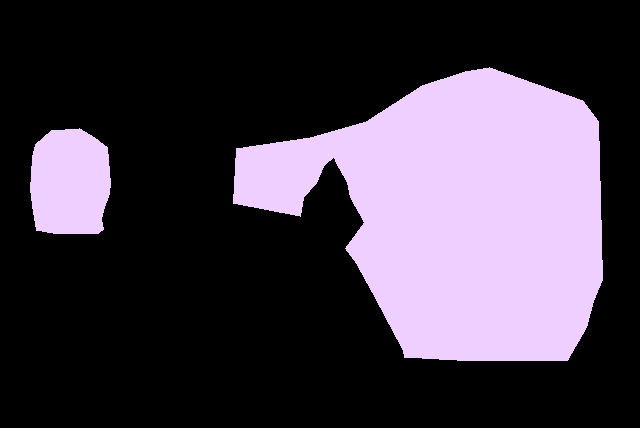Train: (233, 67, 602, 360), (30, 128, 110, 233)
